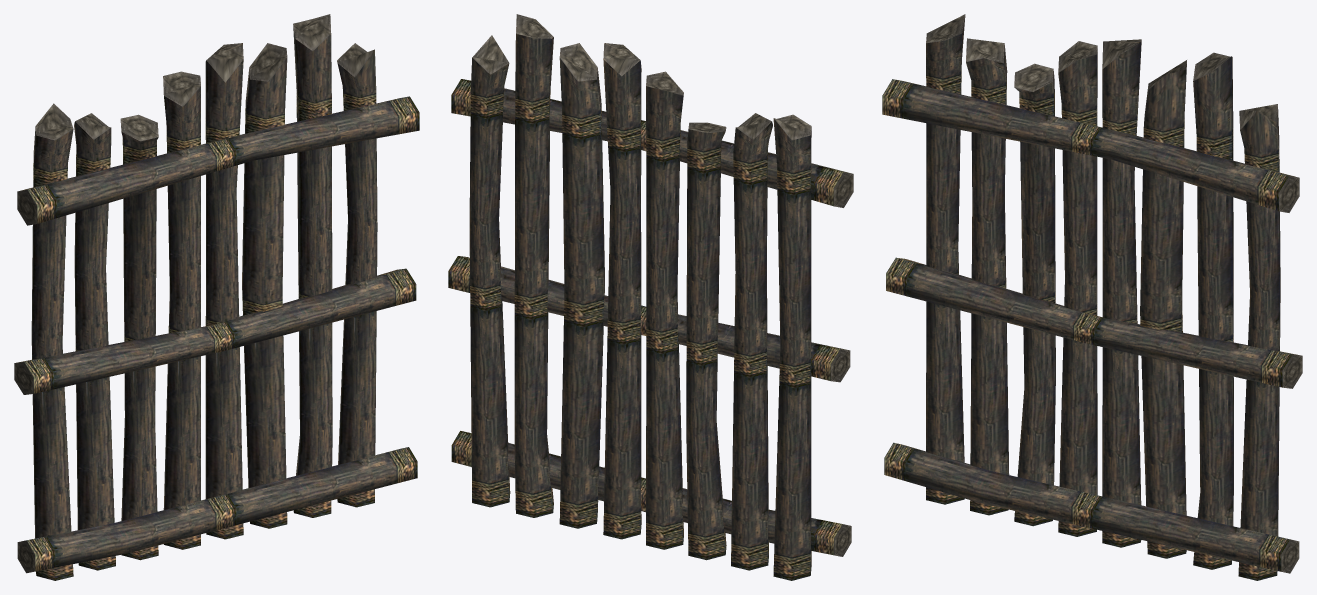
Rendered from weilan_fb_60.FBX.
3 views of the same model, side by side, from view 1: azimuth 30°, elevation 25°; view 2: azimuth 150°, elevation 25°; view 3: azimuth 330°, elevation 25° (orthographic). The views are drawn at different scales.
Parts seen in each view (by area): view 1: weilan_fb_60; view 2: weilan_fb_60; view 3: weilan_fb_60.
Part boxes in pixels (x1,y1,x2,y2): weilan_fb_60: [14, 14, 419, 580]; weilan_fb_60: [448, 14, 853, 580]; weilan_fb_60: [882, 14, 1302, 580].
Size of what is drawn, in the model's own units: 488 by 597 by 72.51.
